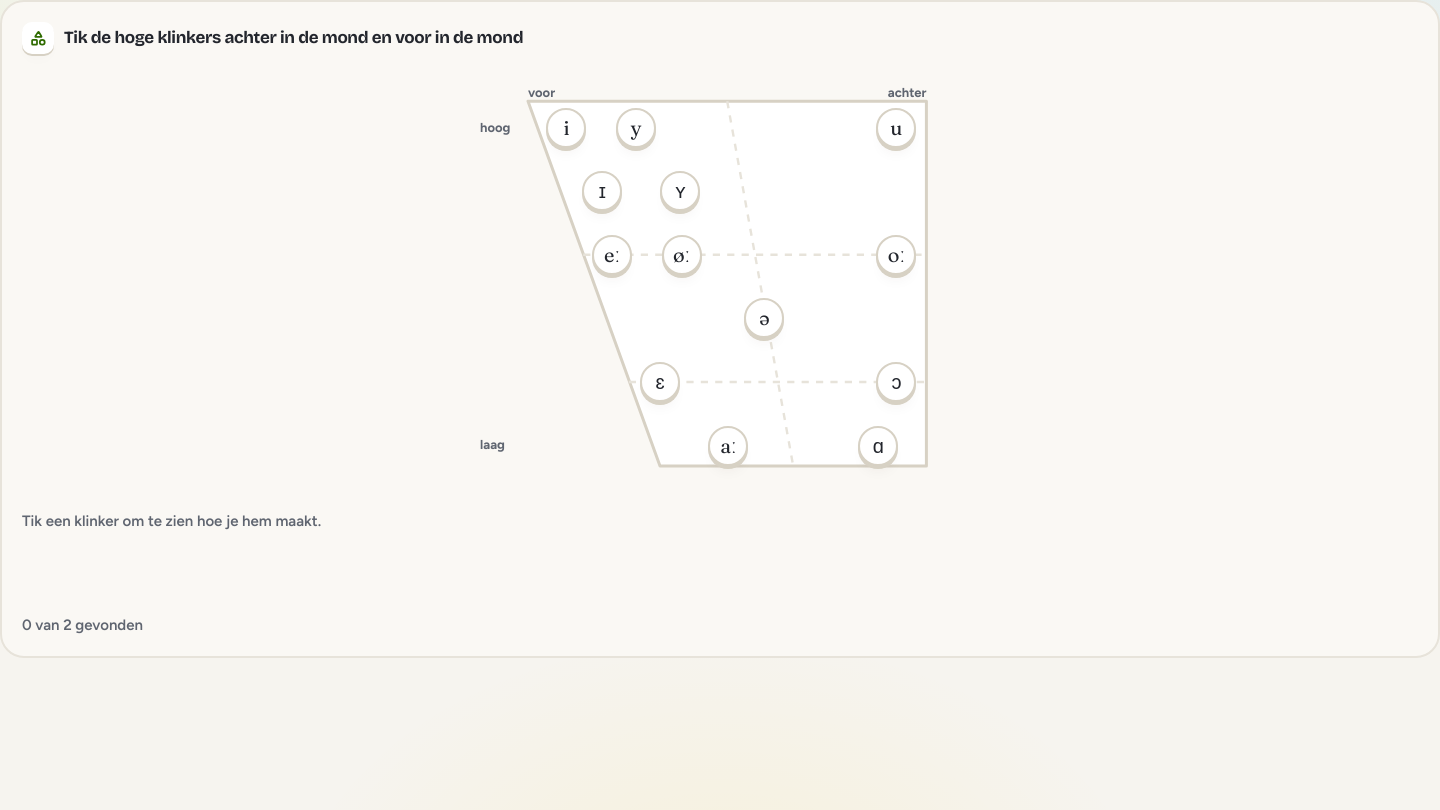
Test case: klankexperimenten › klinkerkaart: een foute klinker telt niet, alle gevraagde klinkers lossen op
This screenshot has width=1440, height=810.
Click the button with aria-label "/aː/ zoals in baan".
click(728, 446)  # box [708,426,748,466]
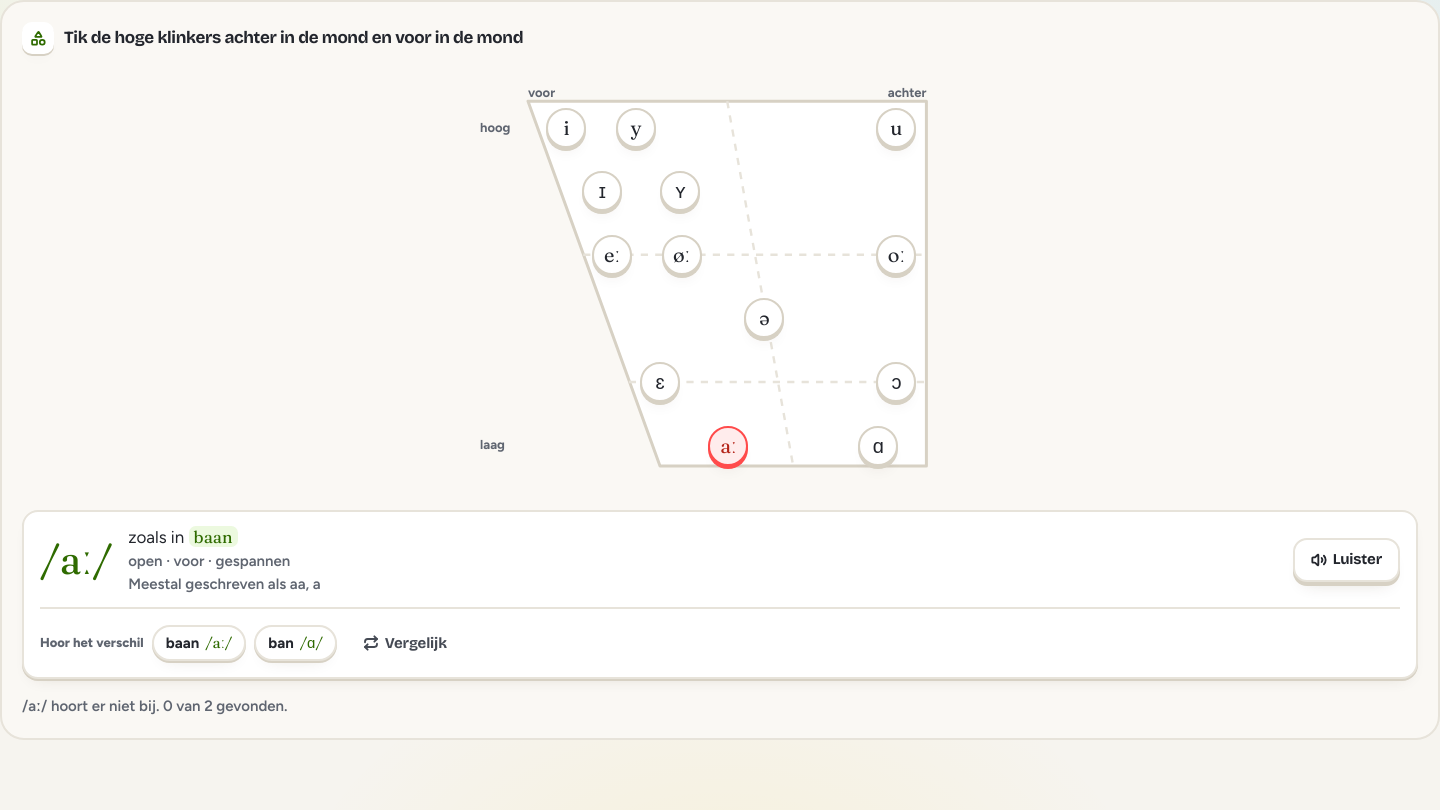
Now the message reads "/aː/ hoort er niet bij. 0 van 2 gevonden.", box [22,697,288,715]
Now the text "open · voor · gespannen" is shown, box [128,552,290,570]
Click the button named "/i/ zoals in piet".
click(566, 128)  # box [546,108,586,148]
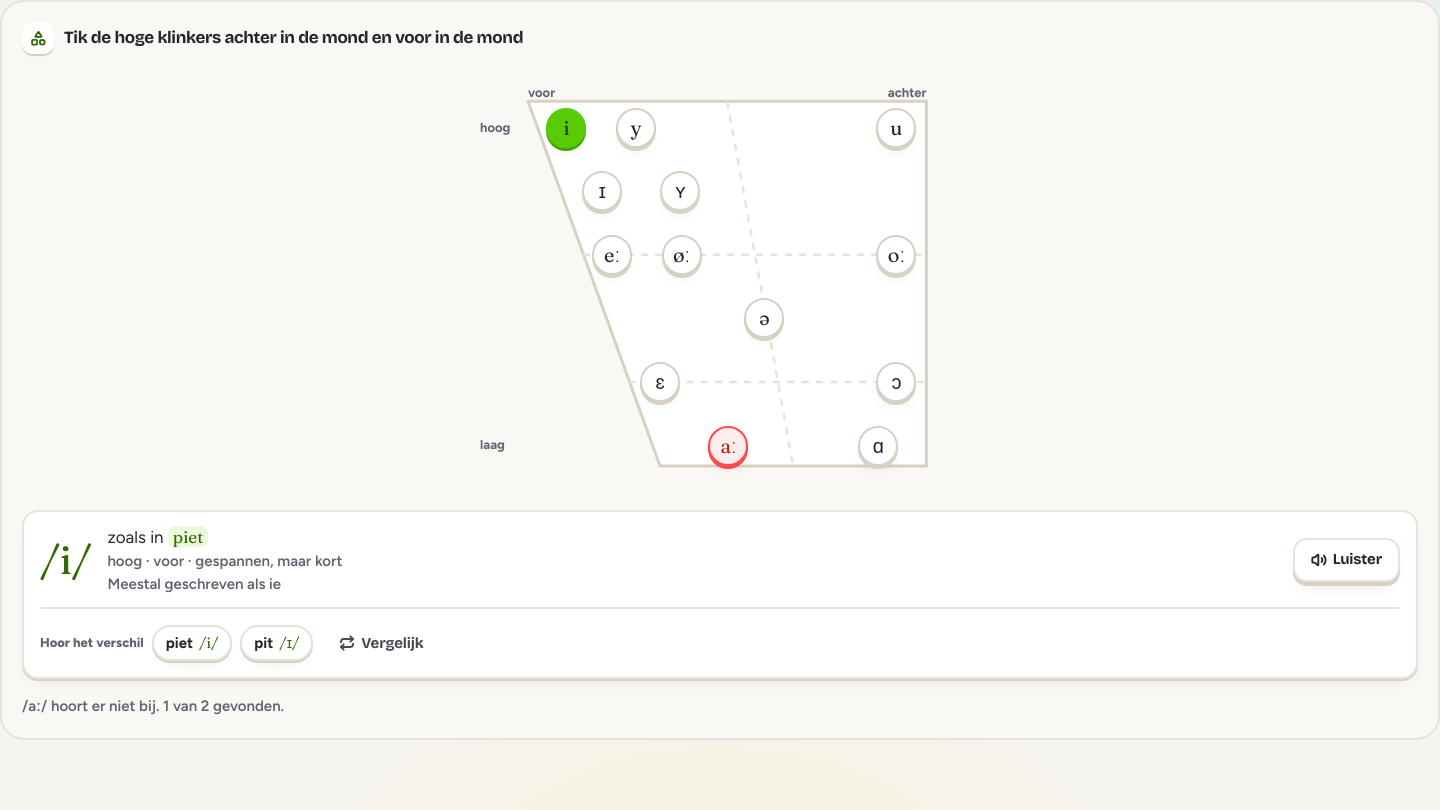
Now the button named "/i/ zoals in piet, gevonden" is pressed, box [546,108,586,148]
Click the button named "/u/ zoals in boek".
click(896, 128)  # box [876,108,916,148]
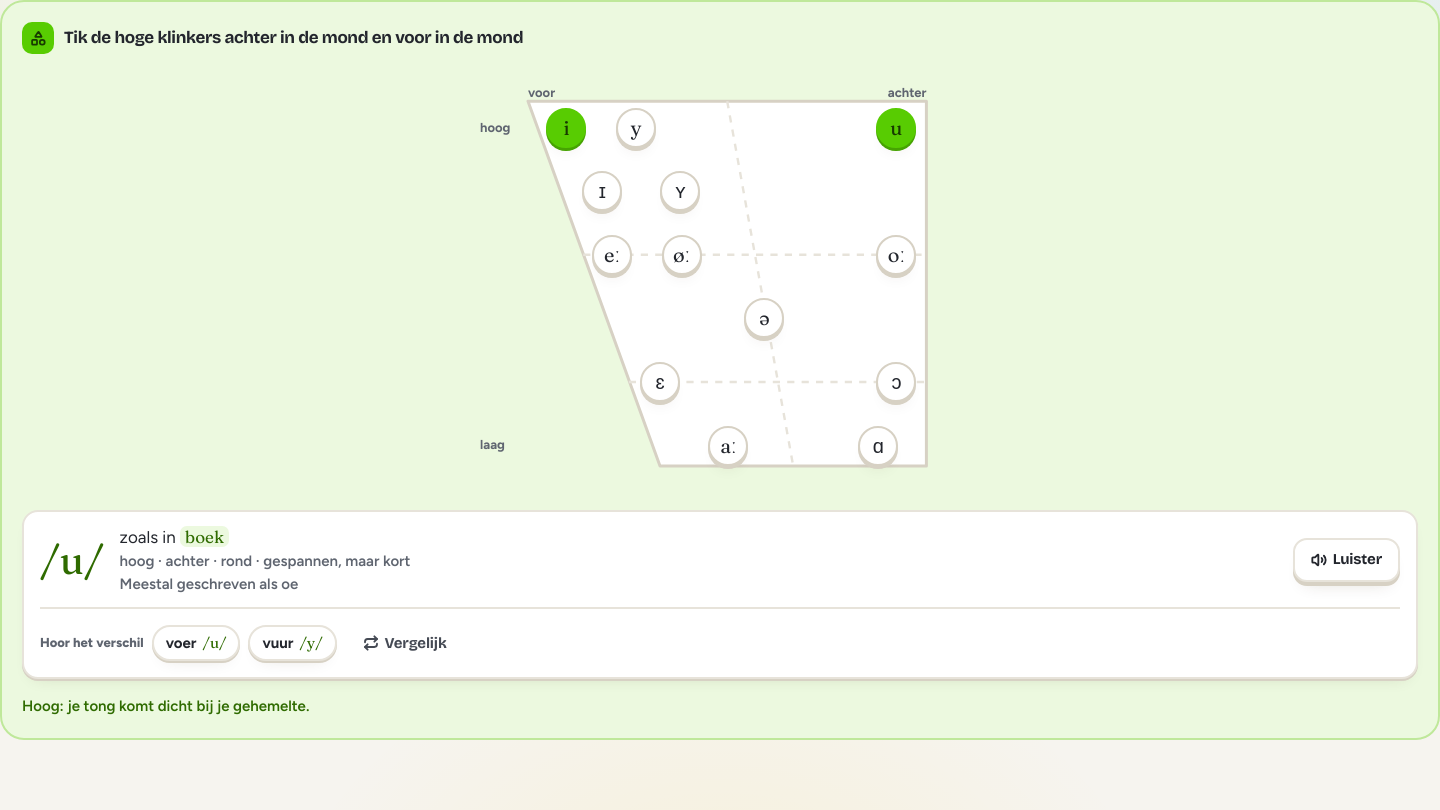
Now the message reads "Hoog: je tong komt dicht bij je gehemelte.", box [22,697,309,715]
